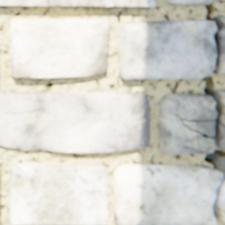brick: (0, 92, 148, 151), (8, 162, 106, 224), (9, 19, 108, 77), (0, 0, 154, 7)
broken_brick: (113, 164, 220, 224), (117, 20, 214, 78), (158, 93, 215, 153), (213, 16, 224, 72), (181, 120, 213, 135), (213, 89, 224, 124), (163, 0, 224, 5), (219, 181, 224, 221), (218, 124, 224, 148)
crack: (173, 2, 224, 222), (18, 109, 37, 113), (1, 111, 16, 113)
